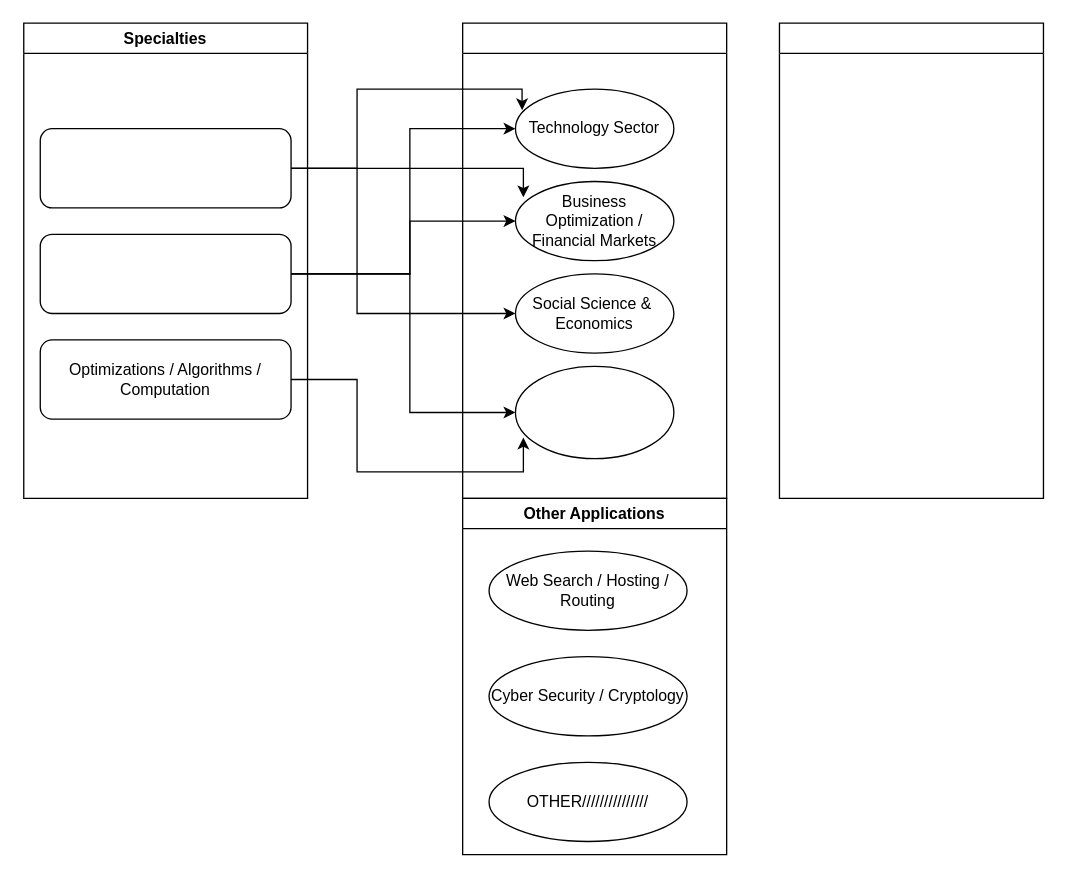
Some shapes in this 1067 by 878 pixel diagram are drawn without their labels. Each missing label, with the box of its shape:
Applications: (461, 22, 727, 498)
Hard Sciences / Engineering: (514, 365, 674, 459)
Machine Learning / Deep Learning & Data Science: (39, 127, 291, 208)
Real Time Systems & Robotics / Automation: (39, 233, 291, 314)
Settings: (778, 22, 1043, 498)
